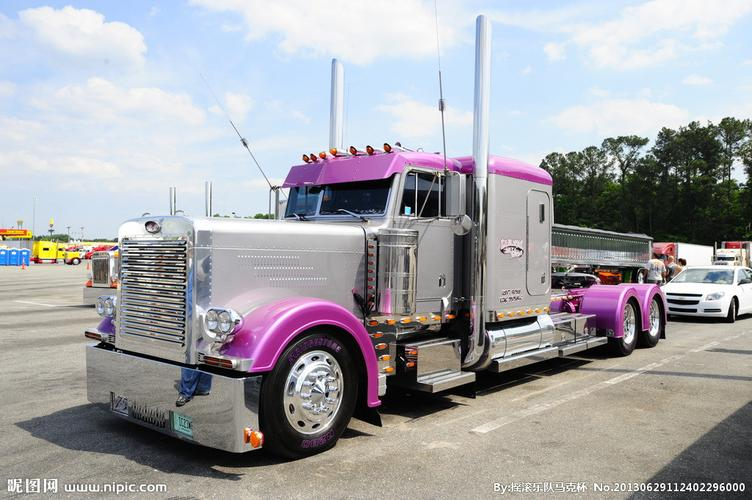卡车: (76, 128, 678, 466)
